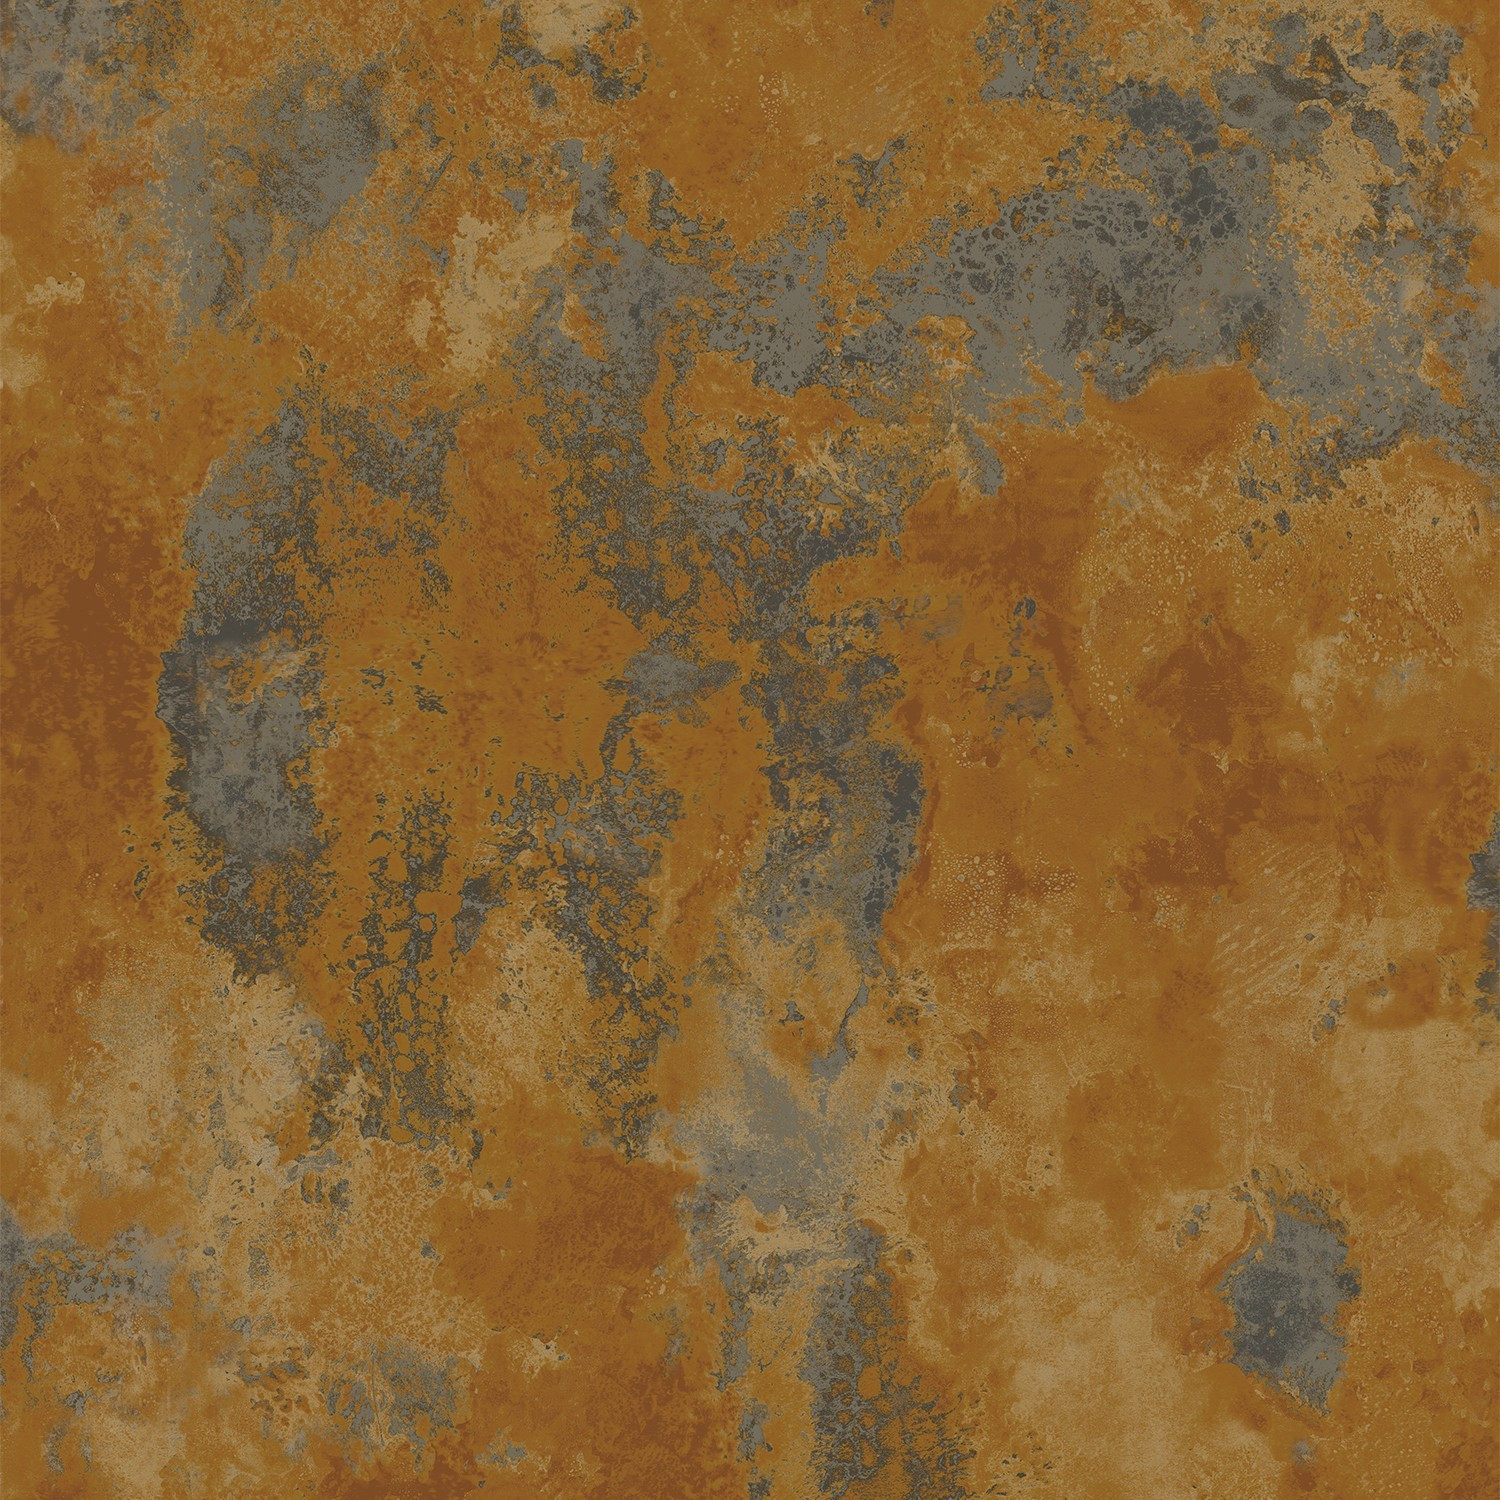rust: (3, 1, 1500, 1500)
